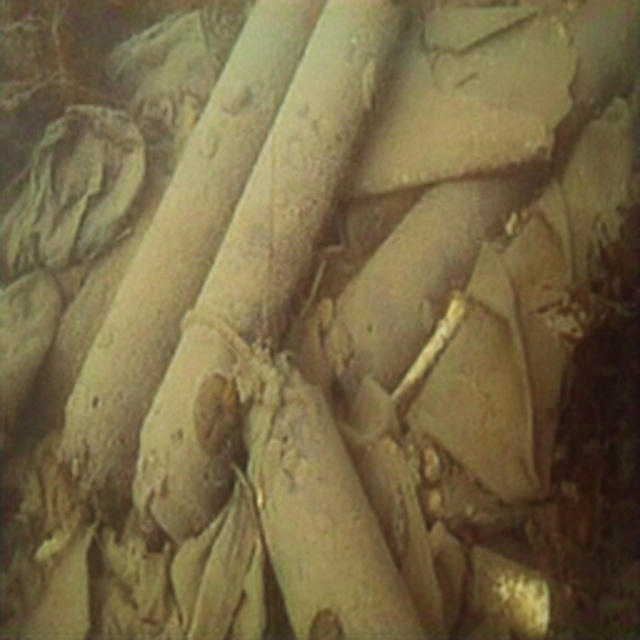mine: (131, 0, 408, 545), (56, 0, 329, 530), (243, 354, 431, 640)
